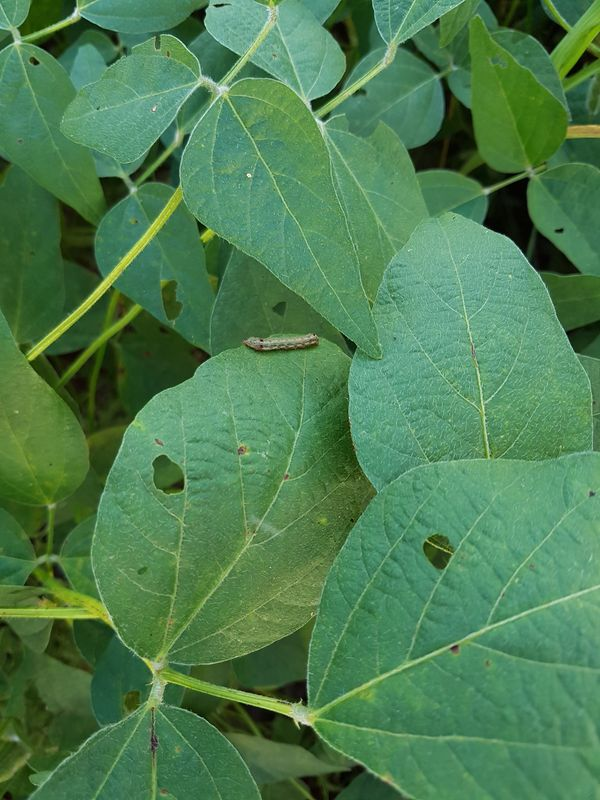Spodoptera_albula: (230, 317, 329, 371)
